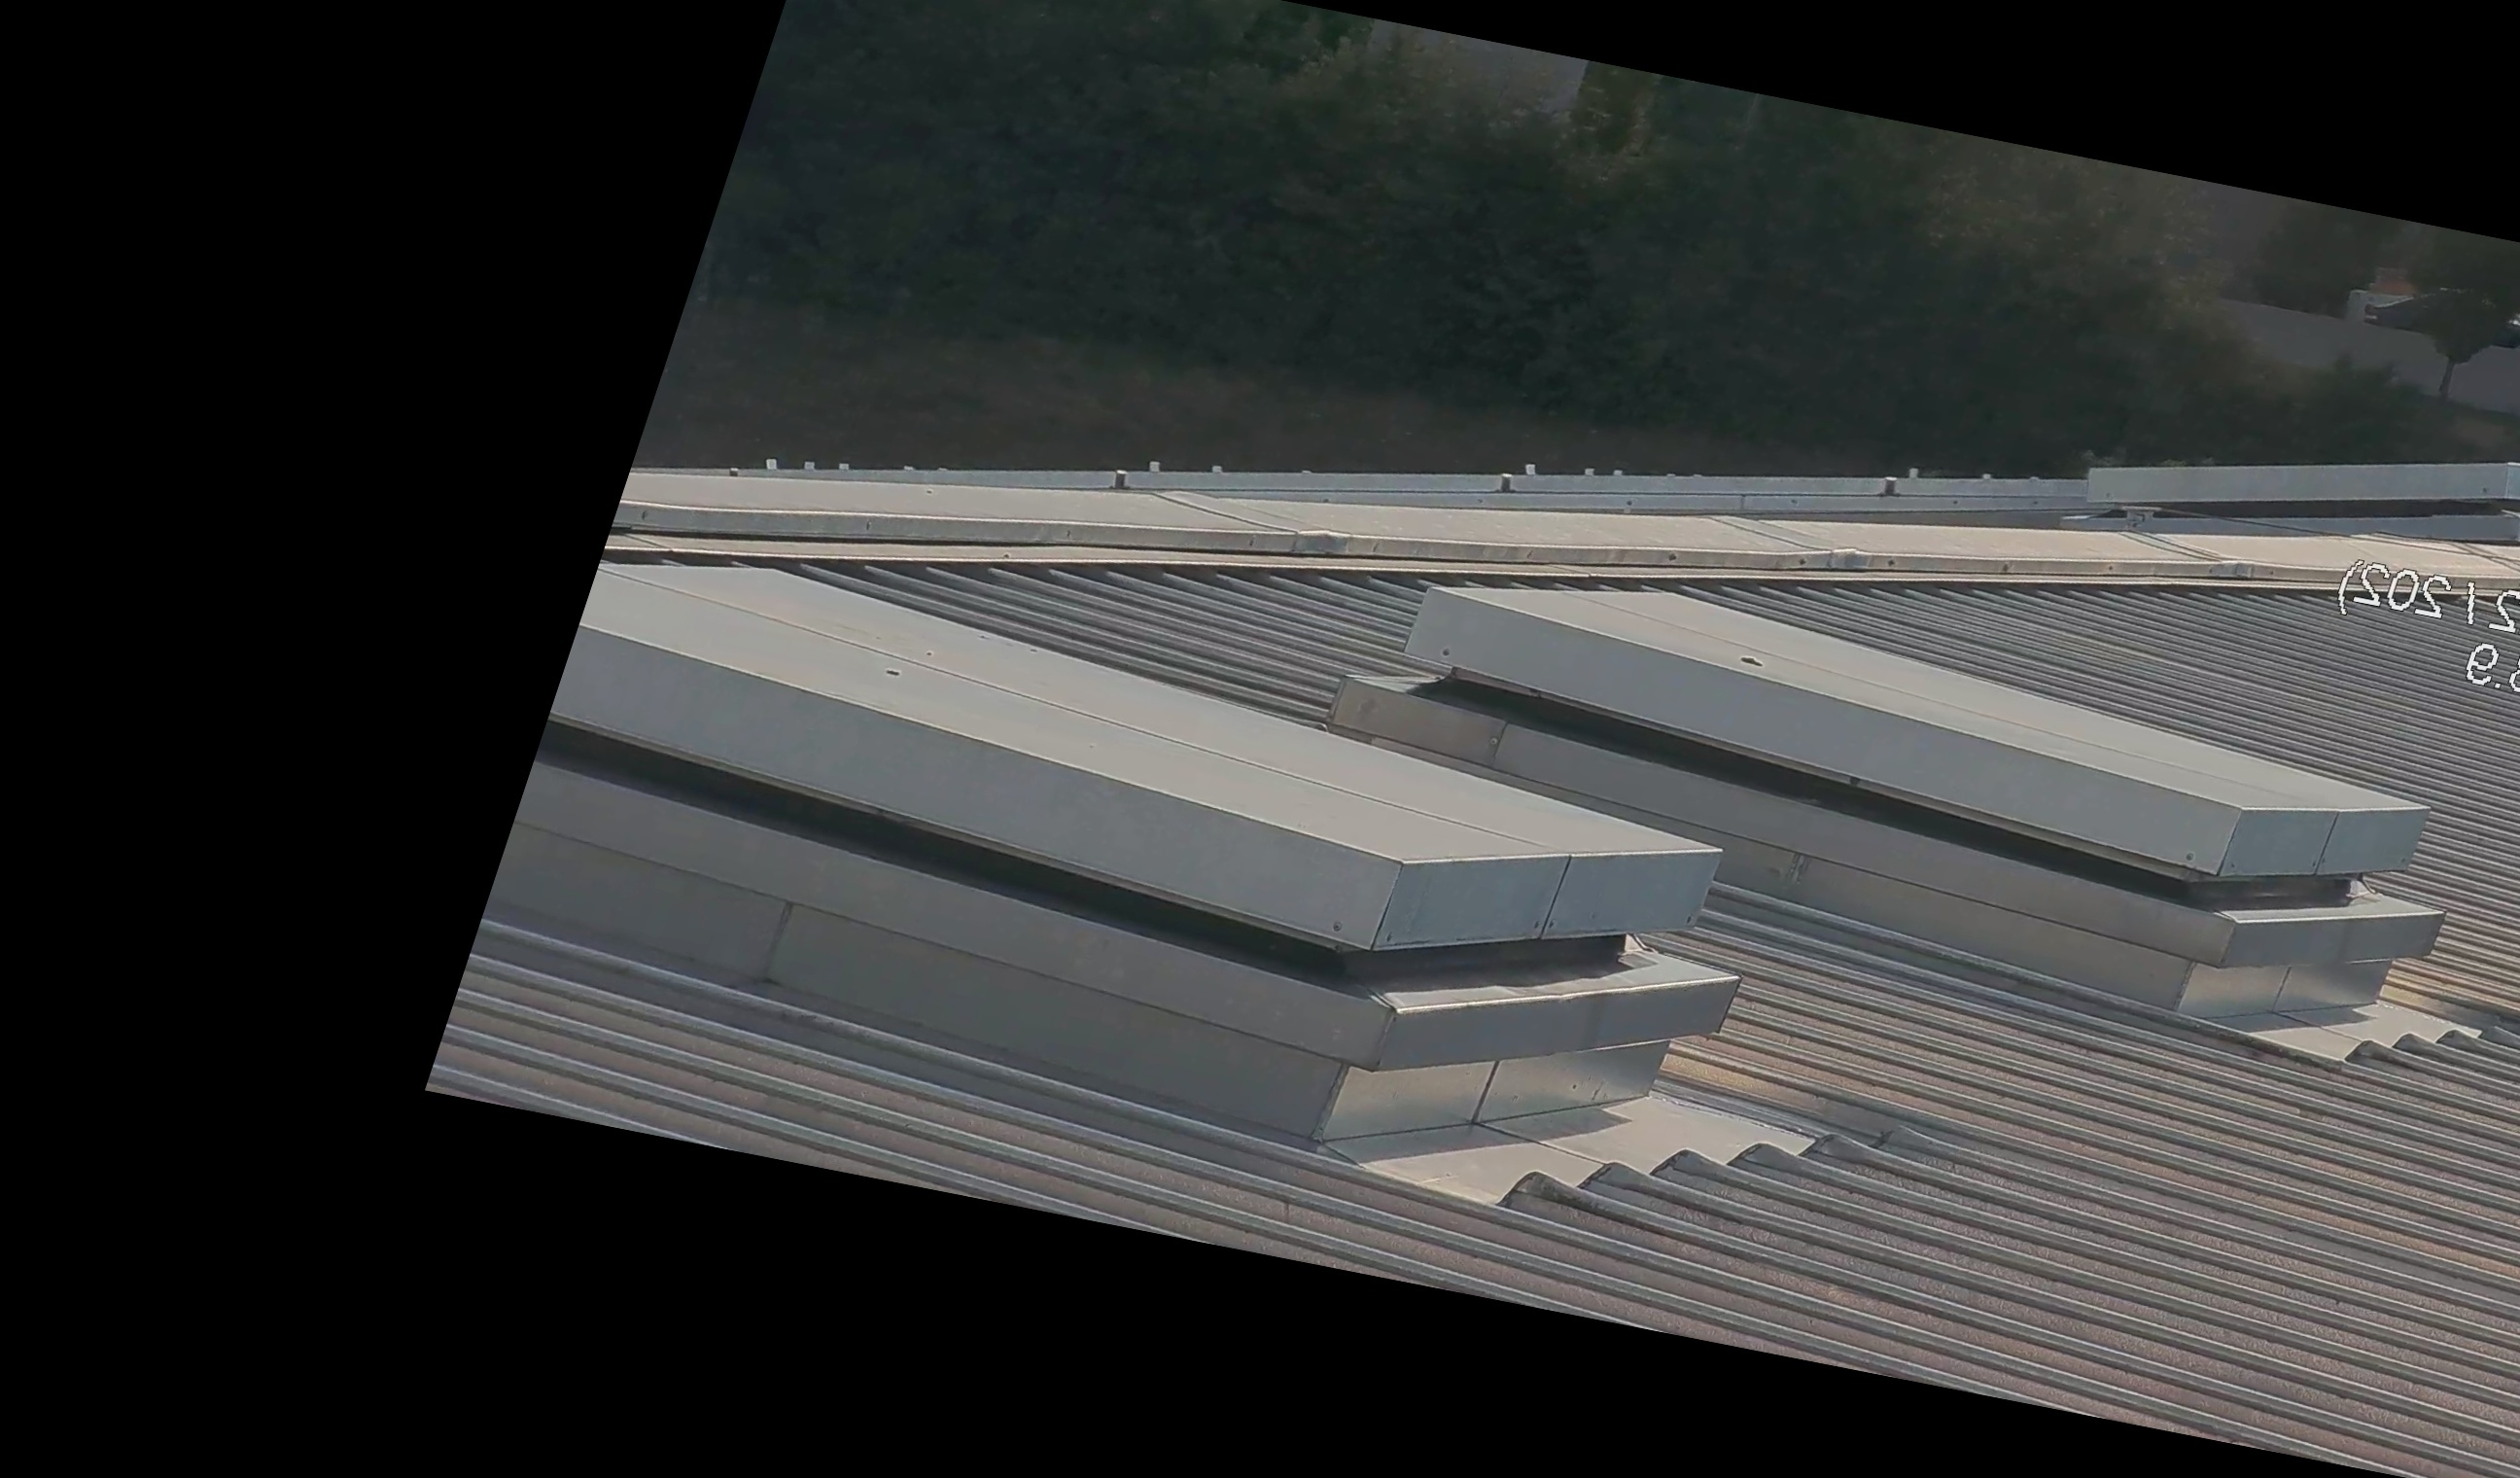Other: (2327, 238, 2520, 406)
